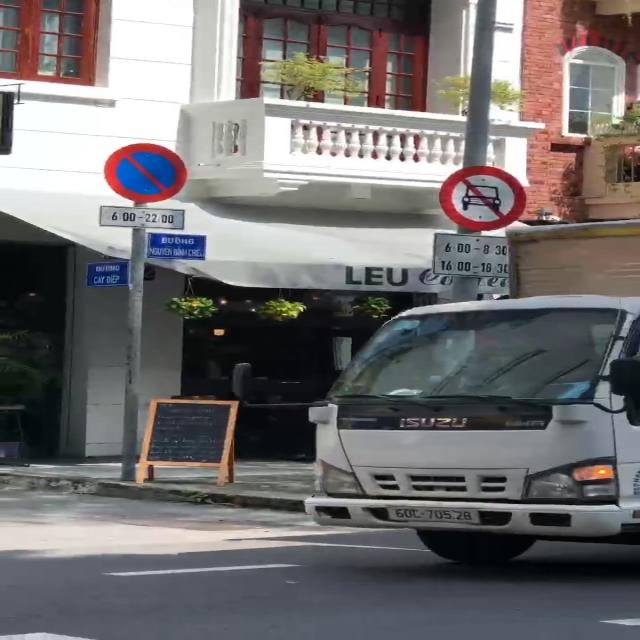Bien bao cam do xe: (103, 139, 188, 205)
Bien bao cam xe oto: (436, 161, 533, 233)
